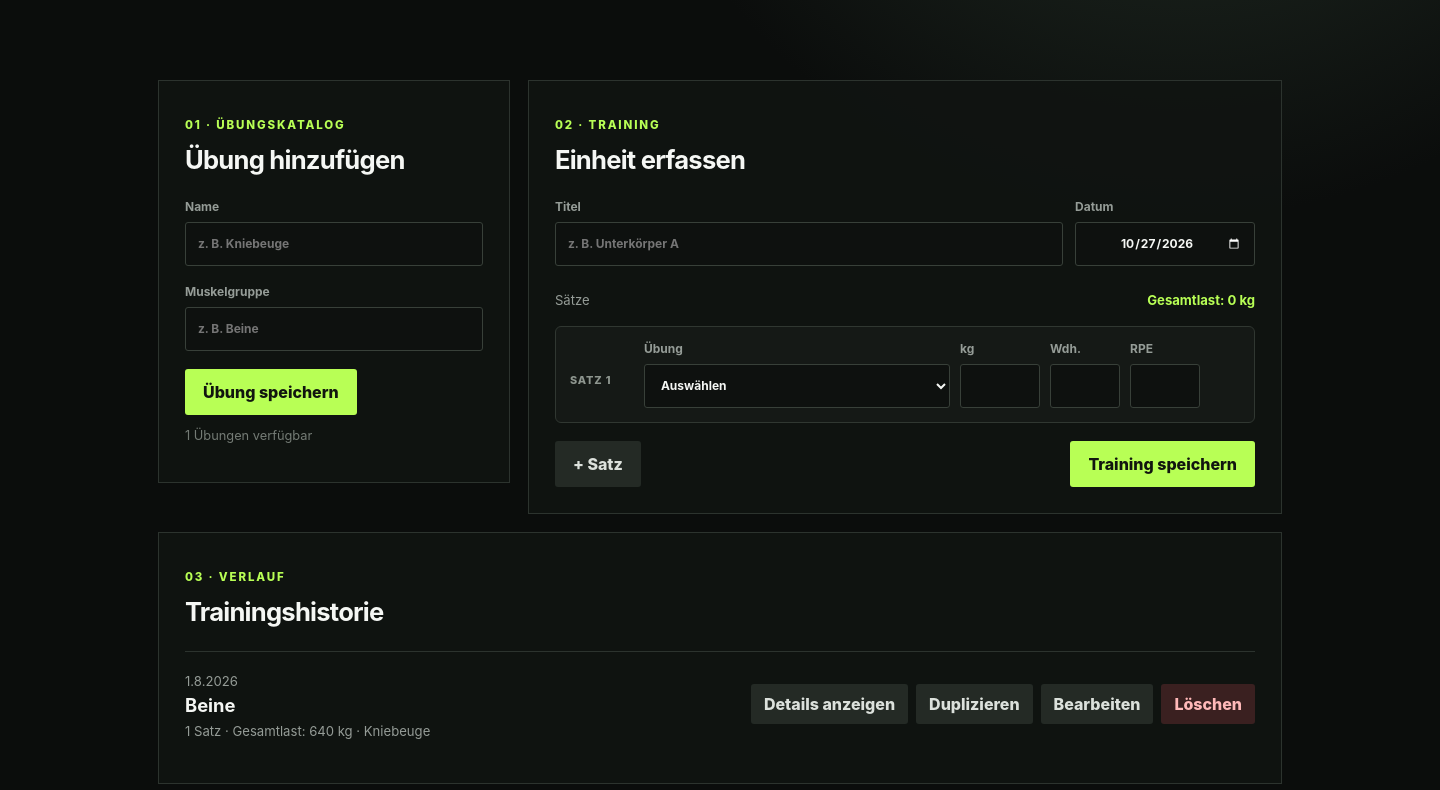
Test: Home › prefills the last performance when an exercise is selected
(page scrolled)
Select "Kniebeuge" in the dropdown labelled "Übung". click: (797, 386)
box: [644,364,950,408]
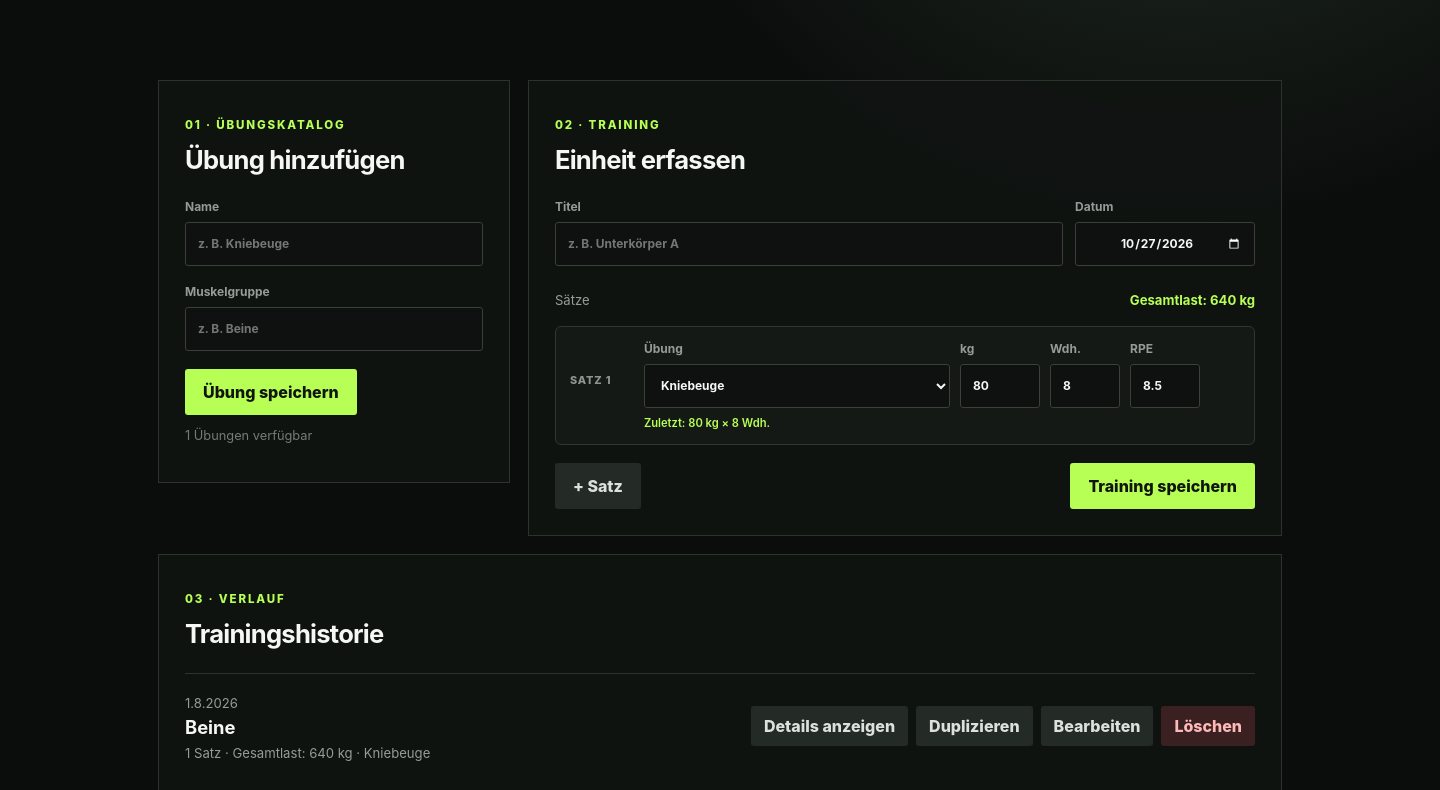
Now the number field labelled "kg" holds "80", box [960,364,1040,408]
Now the number field labelled "Wdh." holds "8", box [1050,364,1120,408]
Now the number field labelled "RPE" holds "8.5", box [1130,364,1200,408]
